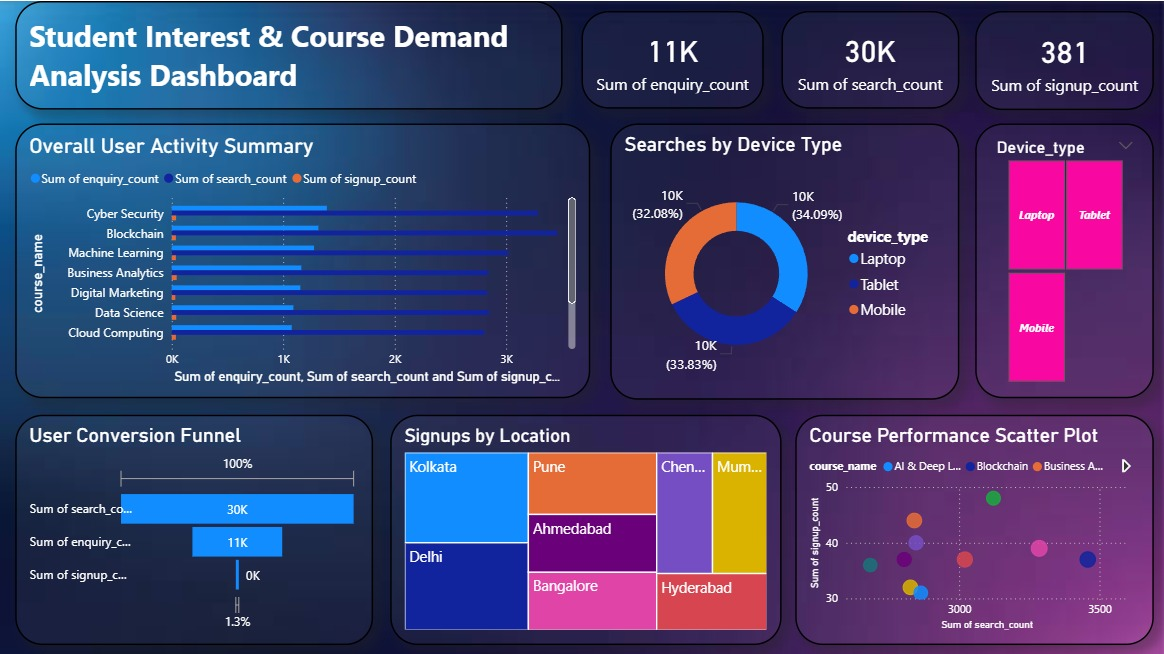

The page's visual inventory and layout, read from the dashboard file:
{"tool":"powerbi","page":{"name":"Page 1","canvas":[1280,720],"ordinal":0},"visuals":[{"type":"card","fields":{"Values":["Sum(Sheet1.signup_count)"]},"box":[1071.7,11,196.2,108.4],"z":0},{"type":"card","fields":{"Values":["Sum(Sheet1.search_count)"]},"box":[859,11,194.9,107],"z":1000},{"type":"card","fields":{"Values":["Sum(Sheet1.enquiry_count)"]},"box":[639.5,11,200.3,107],"z":2000},{"type":"funnel","title":"User Conversion Funnel","fields":{"Y":["Sum(Sheet1.search_count)","Sum(Sheet1.enquiry_count)","Sum(Sheet1.signup_count)"]},"box":[17.8,454.2,392.5,252.5],"z":3000},{"type":"clusteredBarChart","title":"Overall User Activity Summary","fields":{"Category":["Sheet1.course_name"],"Y":["Sum(Sheet1.enquiry_count)","Sum(Sheet1.search_count)","Sum(Sheet1.signup_count)"]},"box":[17.8,134.5,631.2,301.9],"z":4000},{"type":"donutChart","title":"Searches by Device Type","fields":{"Category":["Sheet1.device_type"],"Y":["Sum(Sheet1.search_count)"]},"box":[671,134.5,382.8,303.3],"z":5000},{"type":"scatterChart","title":"Course Performance Scatter Plot","fields":{"X":["Sum(Sheet1.search_count)"],"Y":["Sum(Sheet1.signup_count)"],"Series":["Sheet1.course_name"],"Size":["Sum(Sheet1.enquiry_count)"]},"box":[874.1,454.2,393.8,252.5],"z":6000},{"type":"treemap","title":"Signups by Location","fields":{"Group":["Sheet1.student_location"],"Values":["Sum(Sheet1.signup_count)"]},"box":[429.5,454.2,429.5,252.5],"z":7000},{"type":"slicer","fields":{"Values":["Sheet1.device_type"]},"box":[1071.7,134.5,196.2,301.9],"z":8000},{"type":"textbox","box":[17.8,0,601,119.4],"z":9000}]}

Visuals, with their boxes in screenshot pixels (x1, y1, x2, y2), scaled from the page's 1280x720 canvas onto the 1164x654 screenshot:
card - Sum(Sheet1.signup_count): [left=975, top=10, right=1153, bottom=108]
card - Sum(Sheet1.search_count): [left=781, top=10, right=958, bottom=107]
card - Sum(Sheet1.enquiry_count): [left=582, top=10, right=764, bottom=107]
"User Conversion Funnel" funnel: [left=16, top=413, right=373, bottom=642]
"Overall User Activity Summary" clusteredBarChart: [left=16, top=122, right=590, bottom=396]
"Searches by Device Type" donutChart: [left=610, top=122, right=958, bottom=398]
"Course Performance Scatter Plot" scatterChart: [left=795, top=413, right=1153, bottom=642]
"Signups by Location" treemap: [left=391, top=413, right=781, bottom=642]
slicer - Sheet1.device_type: [left=975, top=122, right=1153, bottom=396]
textbox: [left=16, top=0, right=563, bottom=108]
